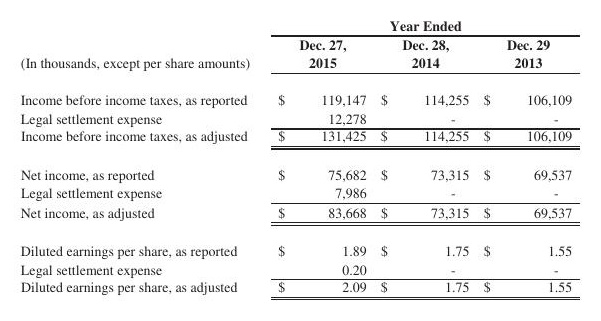table: (0, 0, 601, 321)
